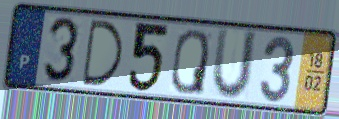3: (41, 14, 83, 86), (258, 34, 295, 104)
5: (125, 21, 173, 95)
D: (80, 17, 126, 88)
Q: (169, 27, 211, 97)
U: (209, 25, 260, 103)
